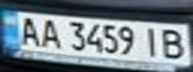3: (63, 18, 87, 52)
4: (84, 20, 106, 54)
5: (100, 21, 121, 55)
9: (118, 24, 139, 56)
A: (36, 16, 63, 50), (15, 14, 42, 47)
B: (157, 26, 190, 61)
I: (139, 25, 166, 58)
